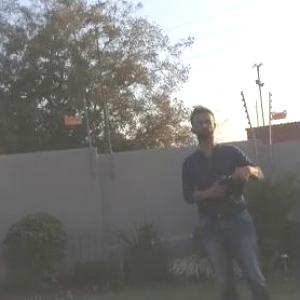follow: (177, 100, 276, 299)
